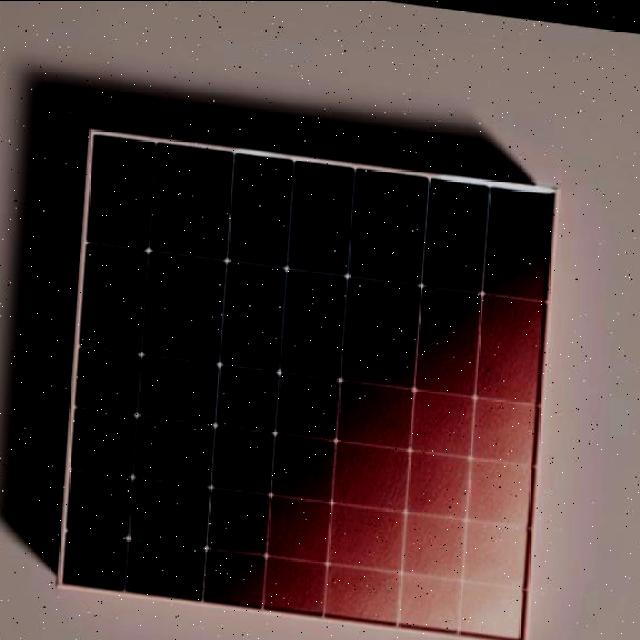Anomaly Solar Panel: (61, 132, 555, 635)
